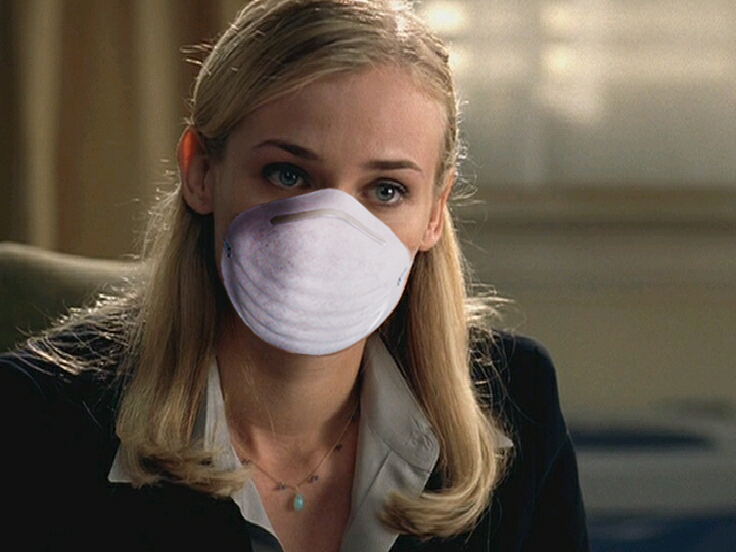mask: (222, 191, 411, 352)
